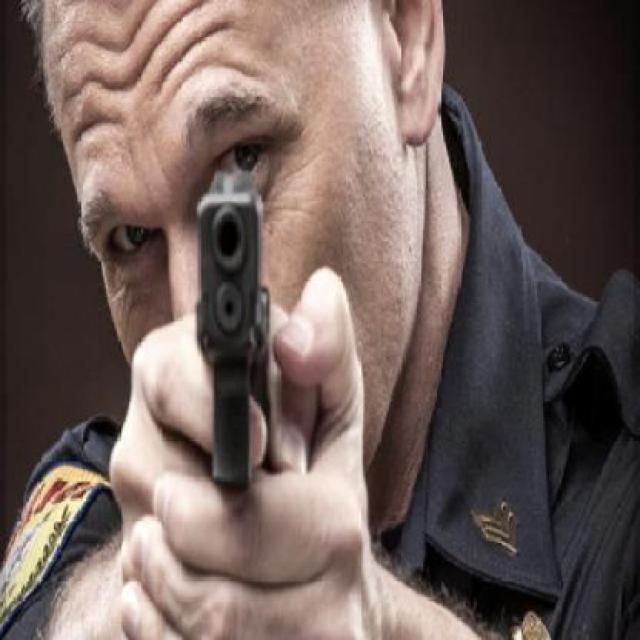gun: (153, 168, 326, 550)
